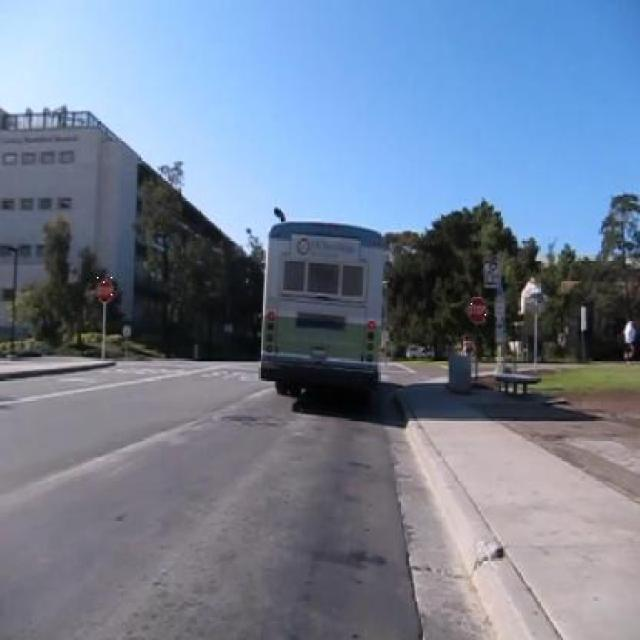stop: (466, 295, 488, 324), (96, 277, 114, 303)
